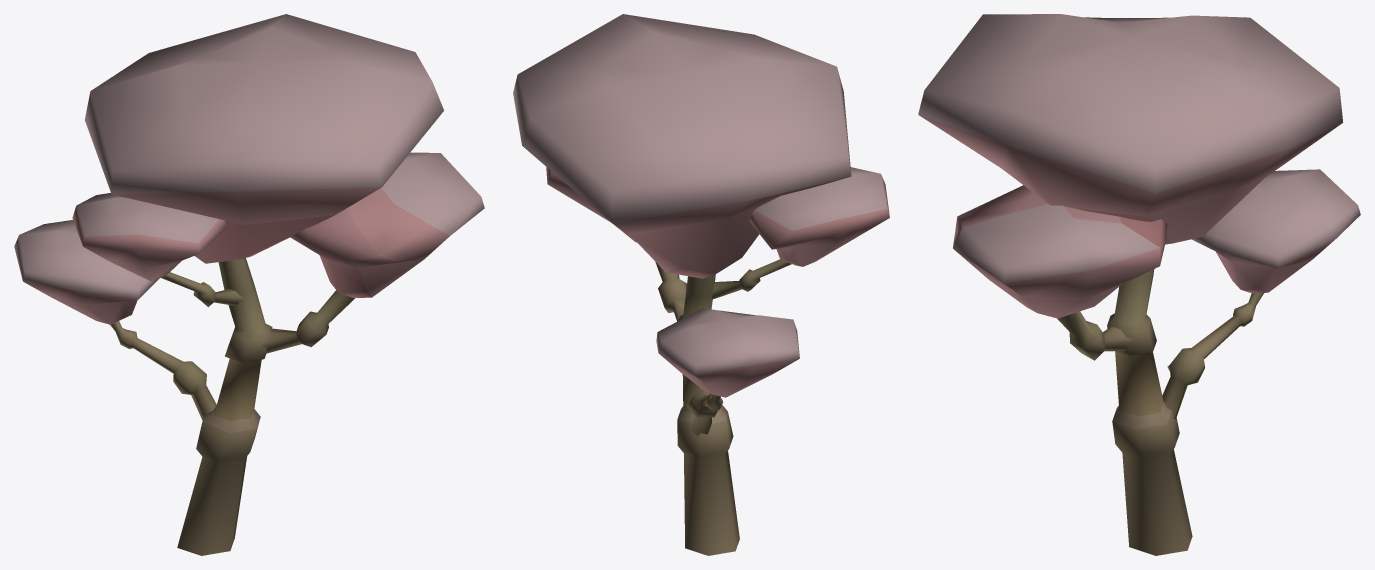
3 views of the same model, side by side, from view 1: azimuth 30°, elevation 25°; view 2: azimuth 150°, elevation 25°; view 3: azimuth 270°, elevation 25° (orthographic). The views are drawn at different scales.
Parts seen in each view (by area): view 1: TreePinkA; view 2: TreePinkA; view 3: TreePinkA.
Part boxes in pixels (<box>): TreePinkA: <box>14,14,484,555</box>; TreePinkA: <box>513,14,889,555</box>; TreePinkA: <box>918,14,1360,555</box>.
Size of the model in its own units: 2.81 by 3.55 by 2.67.
